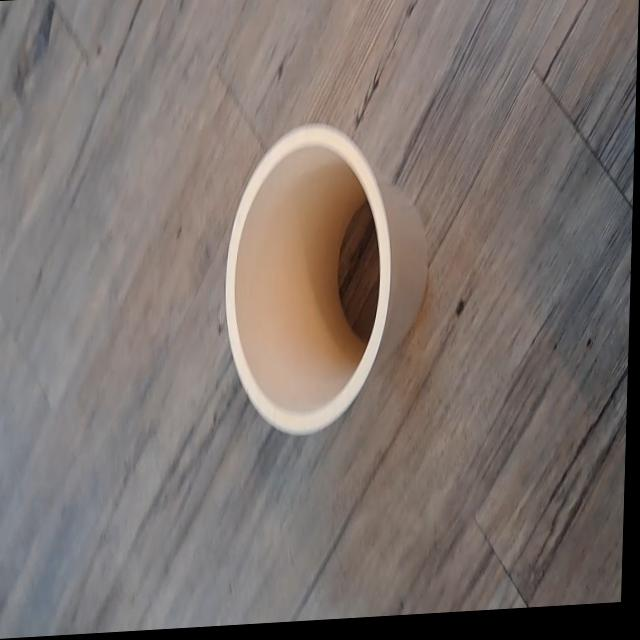CORAL: (204, 77, 439, 466)
